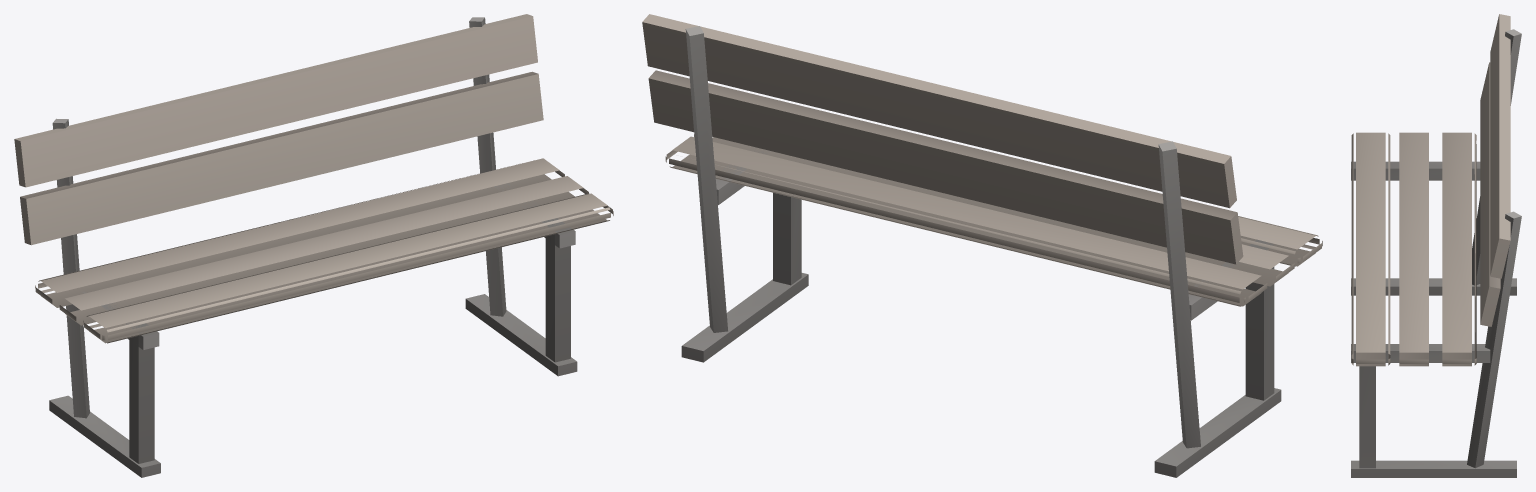
File: bench.lod.glb
The picture shows the model from 3 angles, left to right: view 1: azimuth 30°, elevation 25°; view 2: azimuth 150°, elevation 25°; view 3: azimuth 270°, elevation 25°; orthographic projection. The views are drawn at different scales.
Visible parts, largest first — view 1: bench.001; view 2: bench.001; view 3: bench.001.
Part boxes in pixels (<box>): bench.001: <box>14,14,613,477</box>; bench.001: <box>642,14,1322,477</box>; bench.001: <box>1351,14,1521,477</box>.
Size of the model in its own units: 1.6 by 0.8669 by 0.5148.
